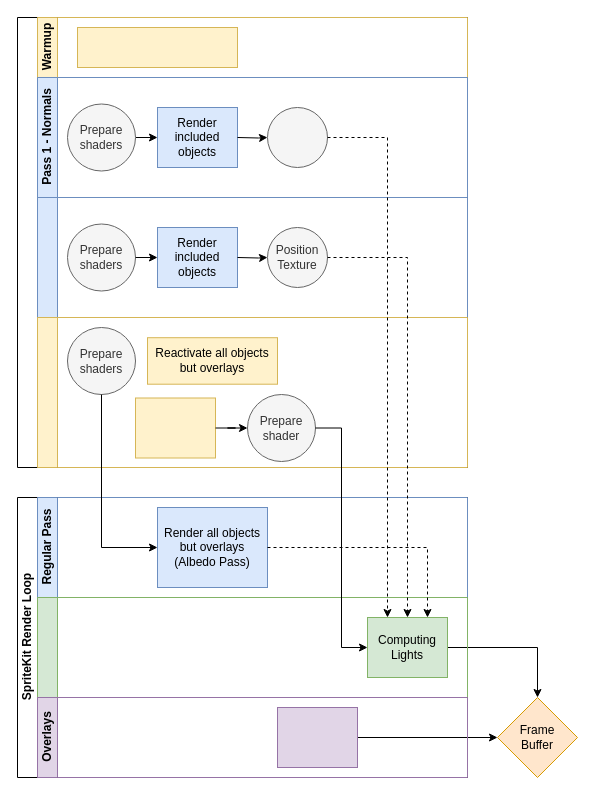
This 595x795 diagram has some shape labels left out. The shapes that lost their labels are listed below. From the top down, each one's box as (x1, y1, x2, y2) in pixels, then its label:
(76, 26, 238, 68): Disable all objects that should not be included
(266, 106, 328, 168): Normals Texture
(16, 16, 468, 468): SKSceneDelegate.didFinishUpdate(for:)
(36, 196, 468, 318): Pass 2 - Positions
(36, 316, 468, 468): Cooldown
(134, 397, 216, 458): Gather light information
(36, 596, 468, 698): Final Gathering
(276, 706, 358, 768): Render overlays
